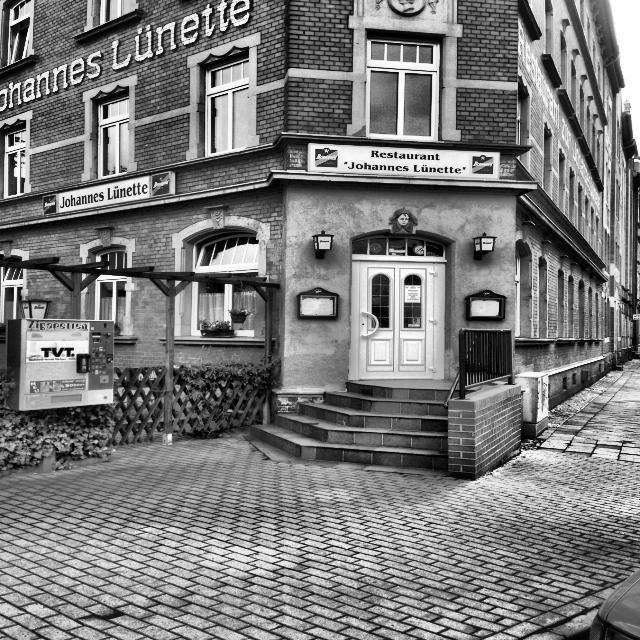escada: (243, 375, 449, 473)
